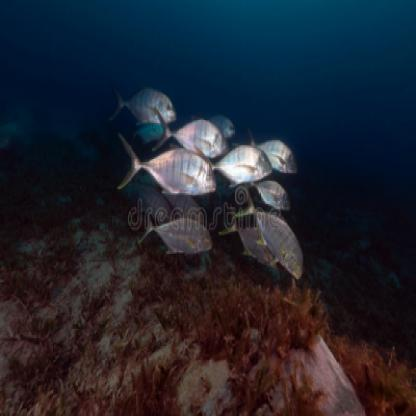jack: (117, 131, 219, 212), (234, 189, 312, 294), (132, 204, 219, 261), (180, 141, 274, 185), (107, 79, 186, 130)
